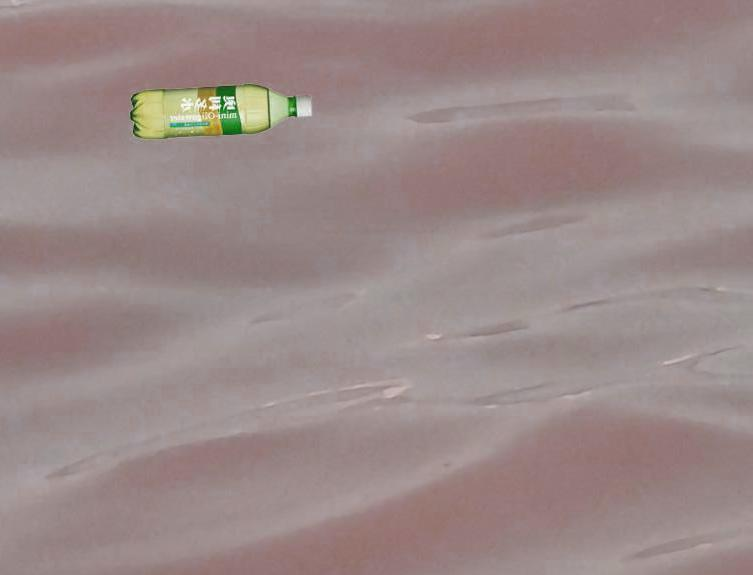Plastic: (125, 80, 321, 144)
